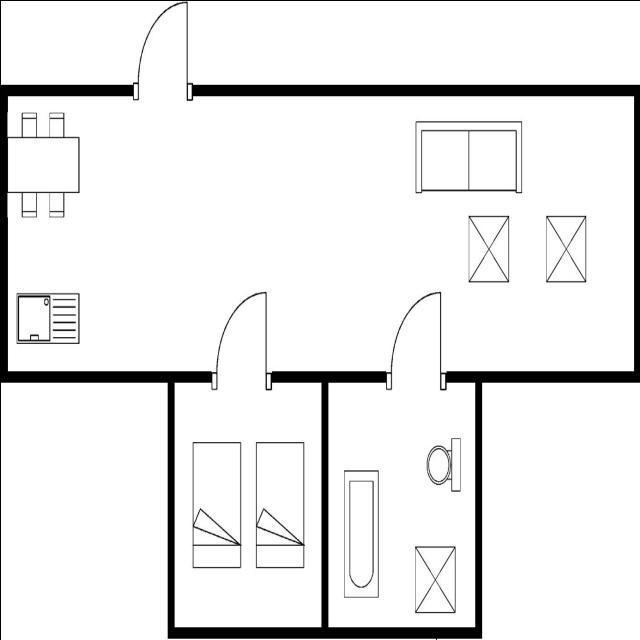bed: (252, 436, 306, 573), (189, 436, 243, 572)
coffee_table: (410, 540, 458, 617), (543, 210, 589, 286), (465, 210, 511, 286)
dining_table: (3, 106, 83, 225)
large_sink: (424, 432, 464, 494)
large_sofa: (412, 118, 524, 196)
sink: (14, 286, 82, 351)
tub: (342, 466, 382, 602)
